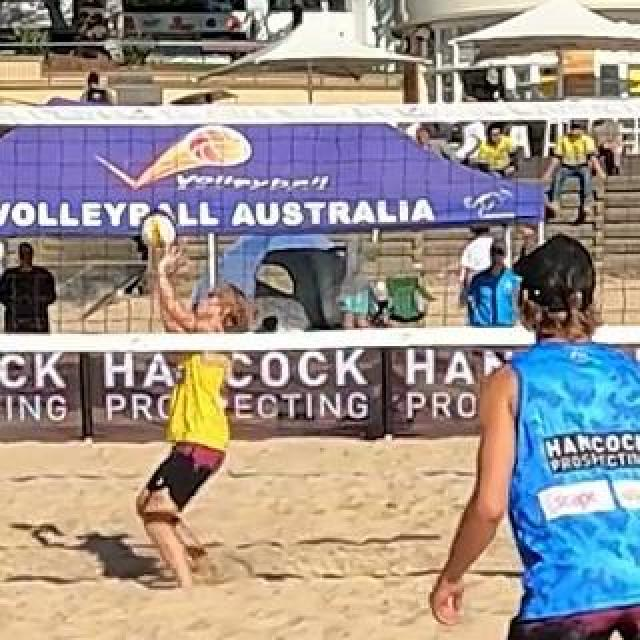volleyball: (140, 215, 174, 251)
